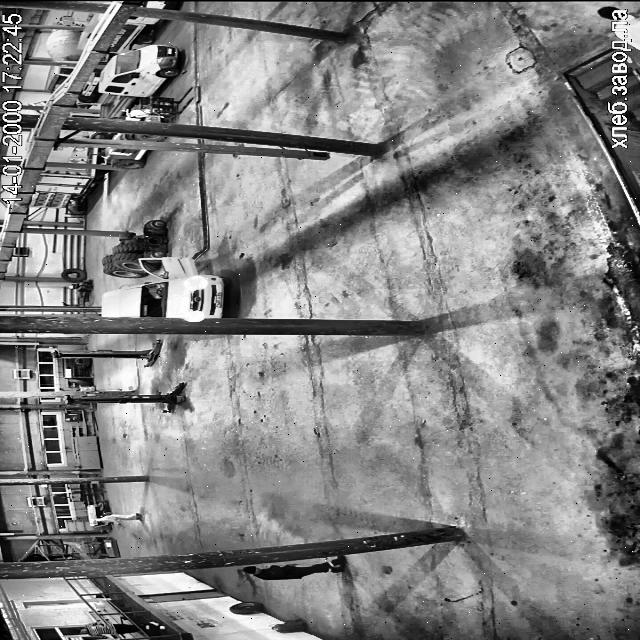car: (102, 256, 225, 321)
car lift: (65, 383, 185, 412), (52, 340, 161, 366)
fire extinguisher: (272, 619, 306, 632)
mechanic: (244, 556, 344, 579), (597, 6, 638, 48), (76, 621, 164, 638), (97, 512, 140, 522), (22, 553, 71, 560)
truck: (100, 44, 180, 116), (28, 166, 107, 208), (108, 16, 158, 52), (113, 97, 176, 122), (99, 144, 146, 168), (46, 146, 100, 164), (80, 14, 105, 47), (90, 131, 164, 142), (45, 66, 73, 92), (78, 75, 100, 104), (126, 0, 177, 8), (60, 130, 76, 136), (32, 101, 44, 104), (78, 132, 86, 136), (60, 131, 68, 135), (28, 111, 36, 112), (27, 142, 28, 146)
